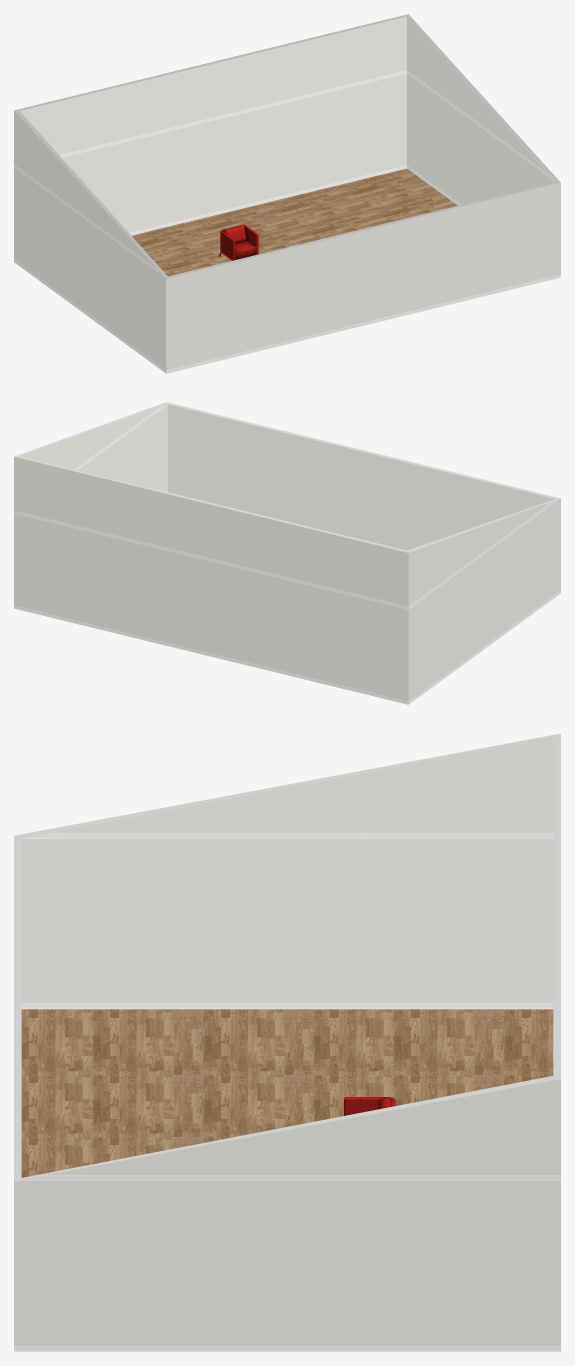
File: designs.gltf
The picture shows the model from 3 angles, top to bottom: view 1: azimuth 30°, elevation 25°; view 2: azimuth 150°, elevation 25°; view 3: azimuth 270°, elevation 25°; orthographic projection. The views are drawn at different scales.
Visible parts, largest first — view 1: wall (×4), object 1, object 27, object 11, object 23, object 5, object 17; view 2: wall (×4), object 23, object 11, object 17, object 5; view 3: wall (×2), object 1, object 23, object 11, object 5, object 17.
Part boxes in pixels (left/top/right/bottom): wall (×4): left=14, top=16, right=560, bottom=373; object 1: left=132, top=168, right=457, bottom=276; object 27: left=219, top=224, right=258, bottom=260; object 11: left=166, top=182, right=559, bottom=278; object 23: left=15, top=14, right=408, bottom=110; object 5: left=14, top=110, right=167, bottom=278; object 17: left=407, top=14, right=560, bottom=182; wall (×4): left=14, top=404, right=560, bottom=704; object 23: left=15, top=456, right=408, bottom=552; object 11: left=166, top=402, right=559, bottom=498; object 17: left=15, top=402, right=167, bottom=456; object 5: left=407, top=498, right=560, bottom=552; wall (×2): left=14, top=736, right=560, bottom=1351; object 1: left=21, top=1009, right=553, bottom=1177; object 23: left=553, top=733, right=560, bottom=1078; object 11: left=14, top=836, right=21, bottom=1180; object 5: left=14, top=733, right=559, bottom=838; object 17: left=15, top=1075, right=560, bottom=1180.
Size of the model in its own units: 1087 by 400 by 727.
27 materials, 10 textured.
